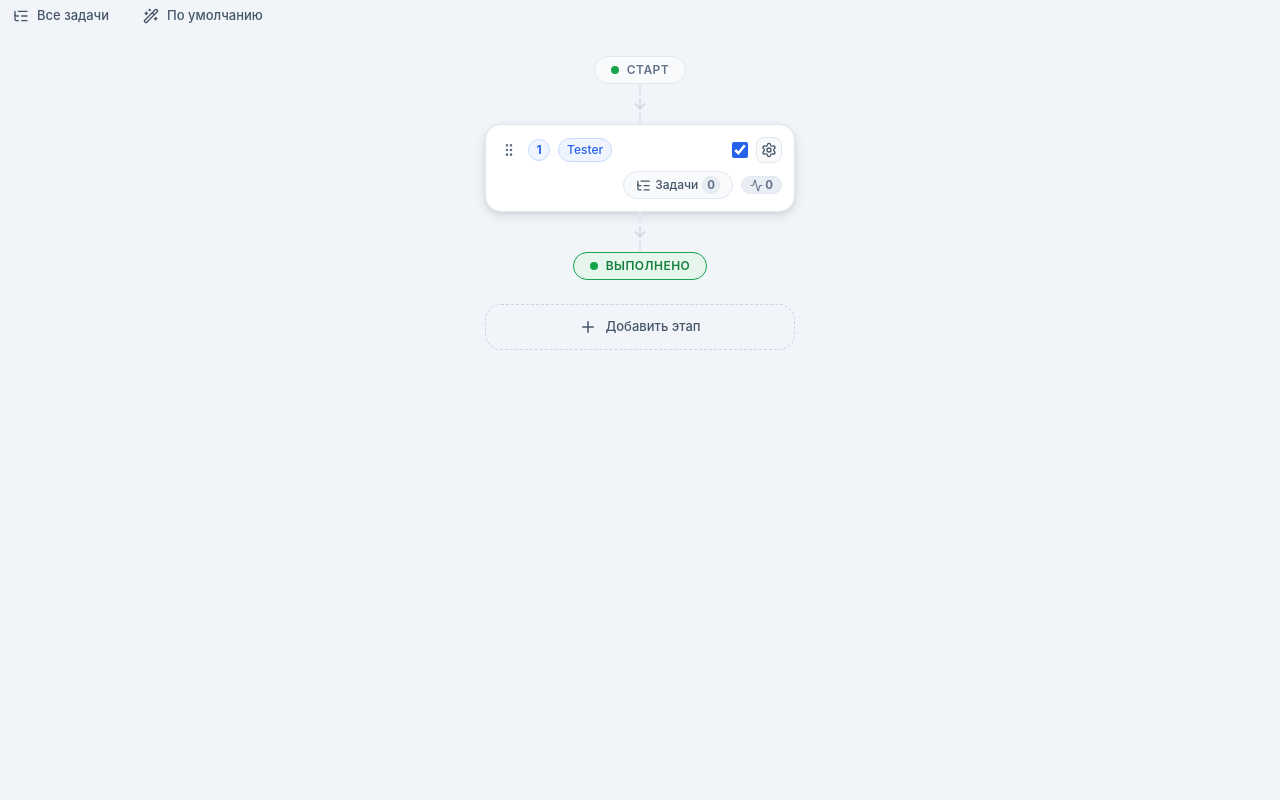
SchemeFlowchart — сохранённая роль без исполнителя (STAGE-ROLE-EXECUTOR-001) › в выборе «Ответственная роль» видна сохранённая роль без исполнителя и скрыты неназначенные
// Открываем модалку настроек этапа по кнопке-шестерёнке.
Click the button named "Настройки этапа «Тестирование»" at [769, 150], box [756, 137, 782, 163]
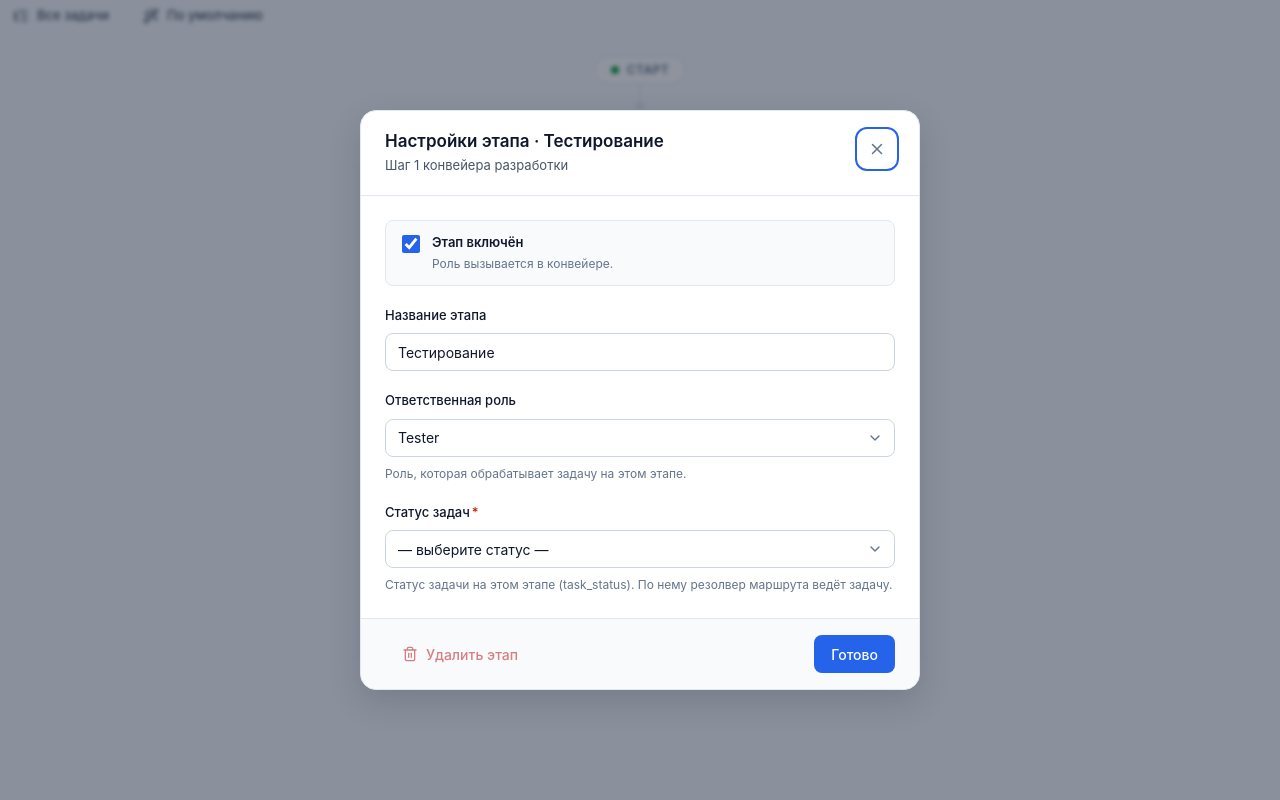
expect the dropdown labelled "Ответственная роль" shows "Tester": met, box [385, 419, 895, 457]
